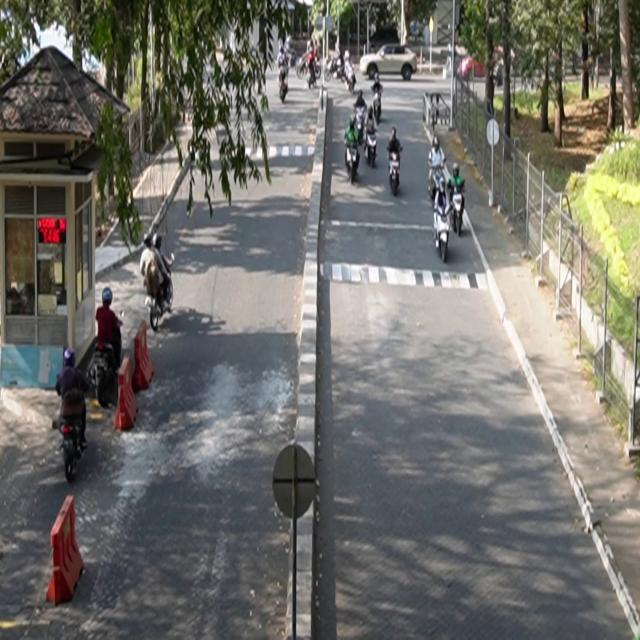car: (361, 44, 419, 82)
